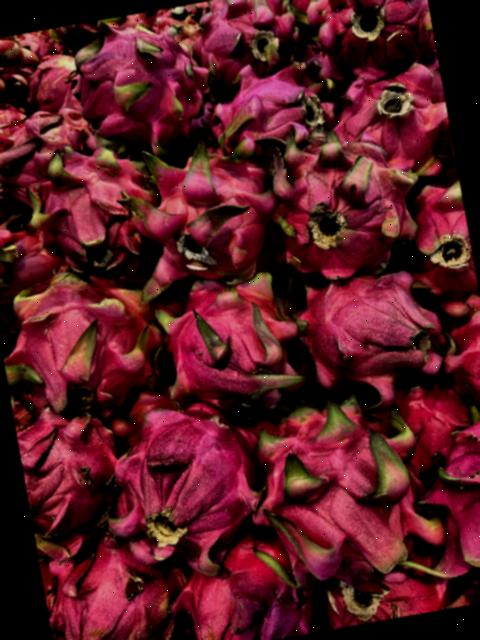buah-naga-belum-matang: (0, 264, 164, 414)
buah-naga-matang: (242, 382, 450, 608), (250, 109, 430, 291), (291, 248, 458, 410), (100, 391, 254, 566), (142, 273, 302, 427), (132, 142, 288, 288), (62, 10, 216, 144), (14, 398, 132, 559), (20, 140, 152, 272), (324, 53, 456, 183), (411, 397, 480, 598), (297, 0, 440, 93), (196, 60, 316, 154)
